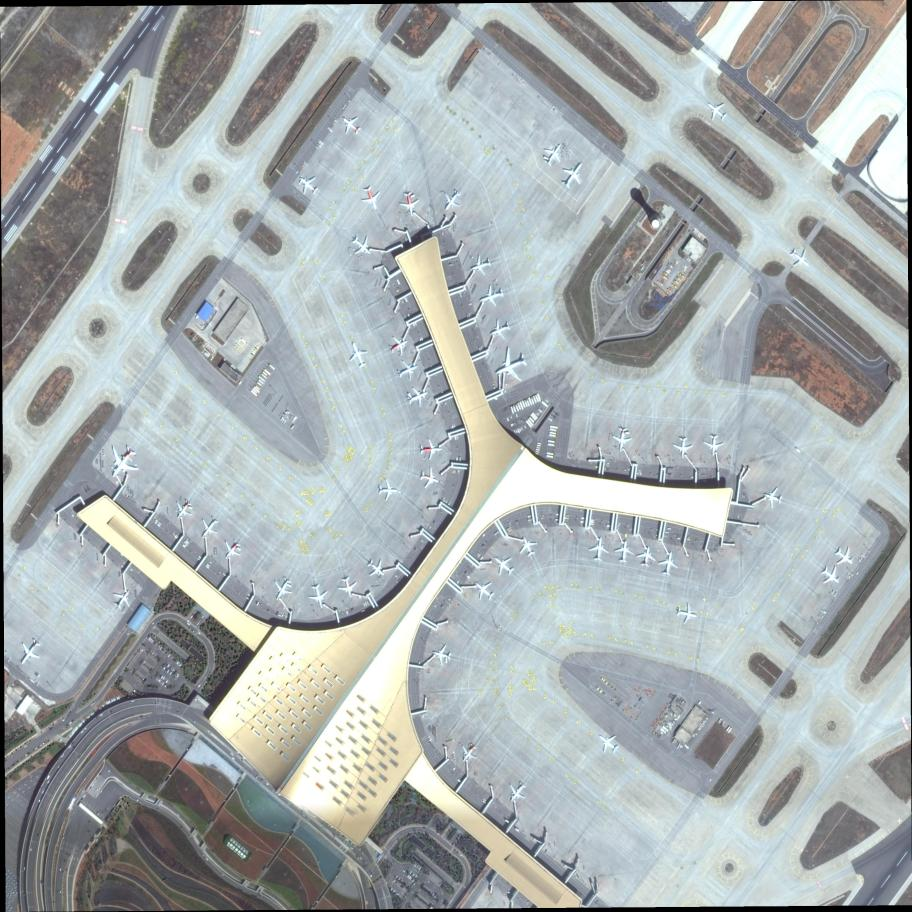plane: (100, 439, 148, 487), (493, 349, 530, 387), (556, 156, 592, 193), (11, 633, 47, 669), (436, 182, 468, 217), (267, 572, 299, 604), (346, 229, 378, 261), (537, 140, 567, 171), (702, 96, 732, 127), (502, 776, 532, 807), (469, 575, 499, 606), (489, 551, 520, 581), (785, 244, 815, 274), (196, 513, 225, 543), (594, 728, 624, 757), (358, 183, 385, 215), (295, 171, 323, 200), (108, 586, 136, 614), (219, 536, 247, 564), (362, 553, 390, 581), (338, 111, 366, 139), (830, 543, 858, 570), (416, 465, 445, 491), (346, 340, 371, 369), (608, 423, 633, 452), (455, 739, 481, 766), (516, 533, 541, 561), (398, 188, 422, 217), (171, 497, 197, 523), (817, 563, 844, 588), (335, 570, 359, 598), (478, 285, 506, 309), (306, 581, 330, 608), (673, 601, 700, 625), (488, 318, 513, 343), (656, 550, 680, 576), (588, 535, 610, 563), (396, 358, 421, 382), (702, 431, 725, 457), (406, 385, 430, 409), (635, 545, 658, 570), (470, 253, 493, 277), (387, 334, 410, 358), (431, 641, 453, 666), (762, 486, 784, 510), (613, 540, 634, 564), (673, 434, 693, 459), (377, 479, 400, 500), (419, 441, 444, 459)
